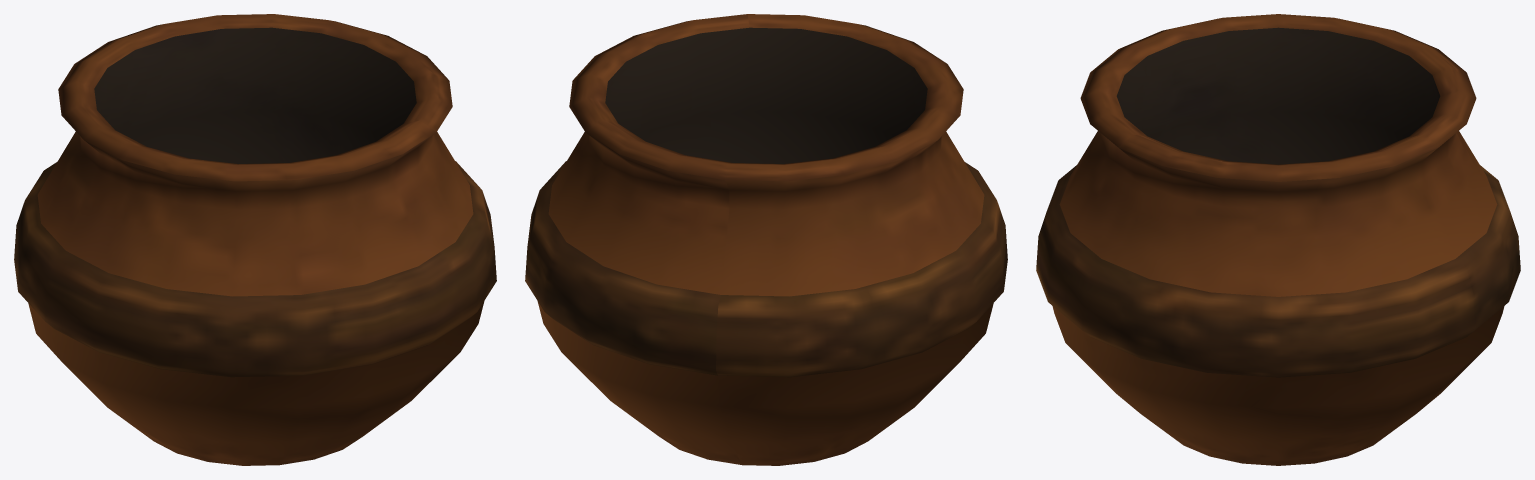
File: quaternius-fantasy-props-vase-2.glb
3 renders of one model, left to right at view 1: azimuth 30°, elevation 25°; view 2: azimuth 150°, elevation 25°; view 3: azimuth 270°, elevation 25°, orthographic.
Parts seen in each view (by area): view 1: Vase_2; view 2: Vase_2; view 3: Vase_2.
Part boxes in pixels (x1,y1,x2,y2): Vase_2: (14, 14, 496, 465); Vase_2: (525, 14, 1007, 465); Vase_2: (1036, 14, 1520, 465).
Bounding box in the file's own units: 0.55 × 0.4088 × 0.55.
1 material, 1 textured.
